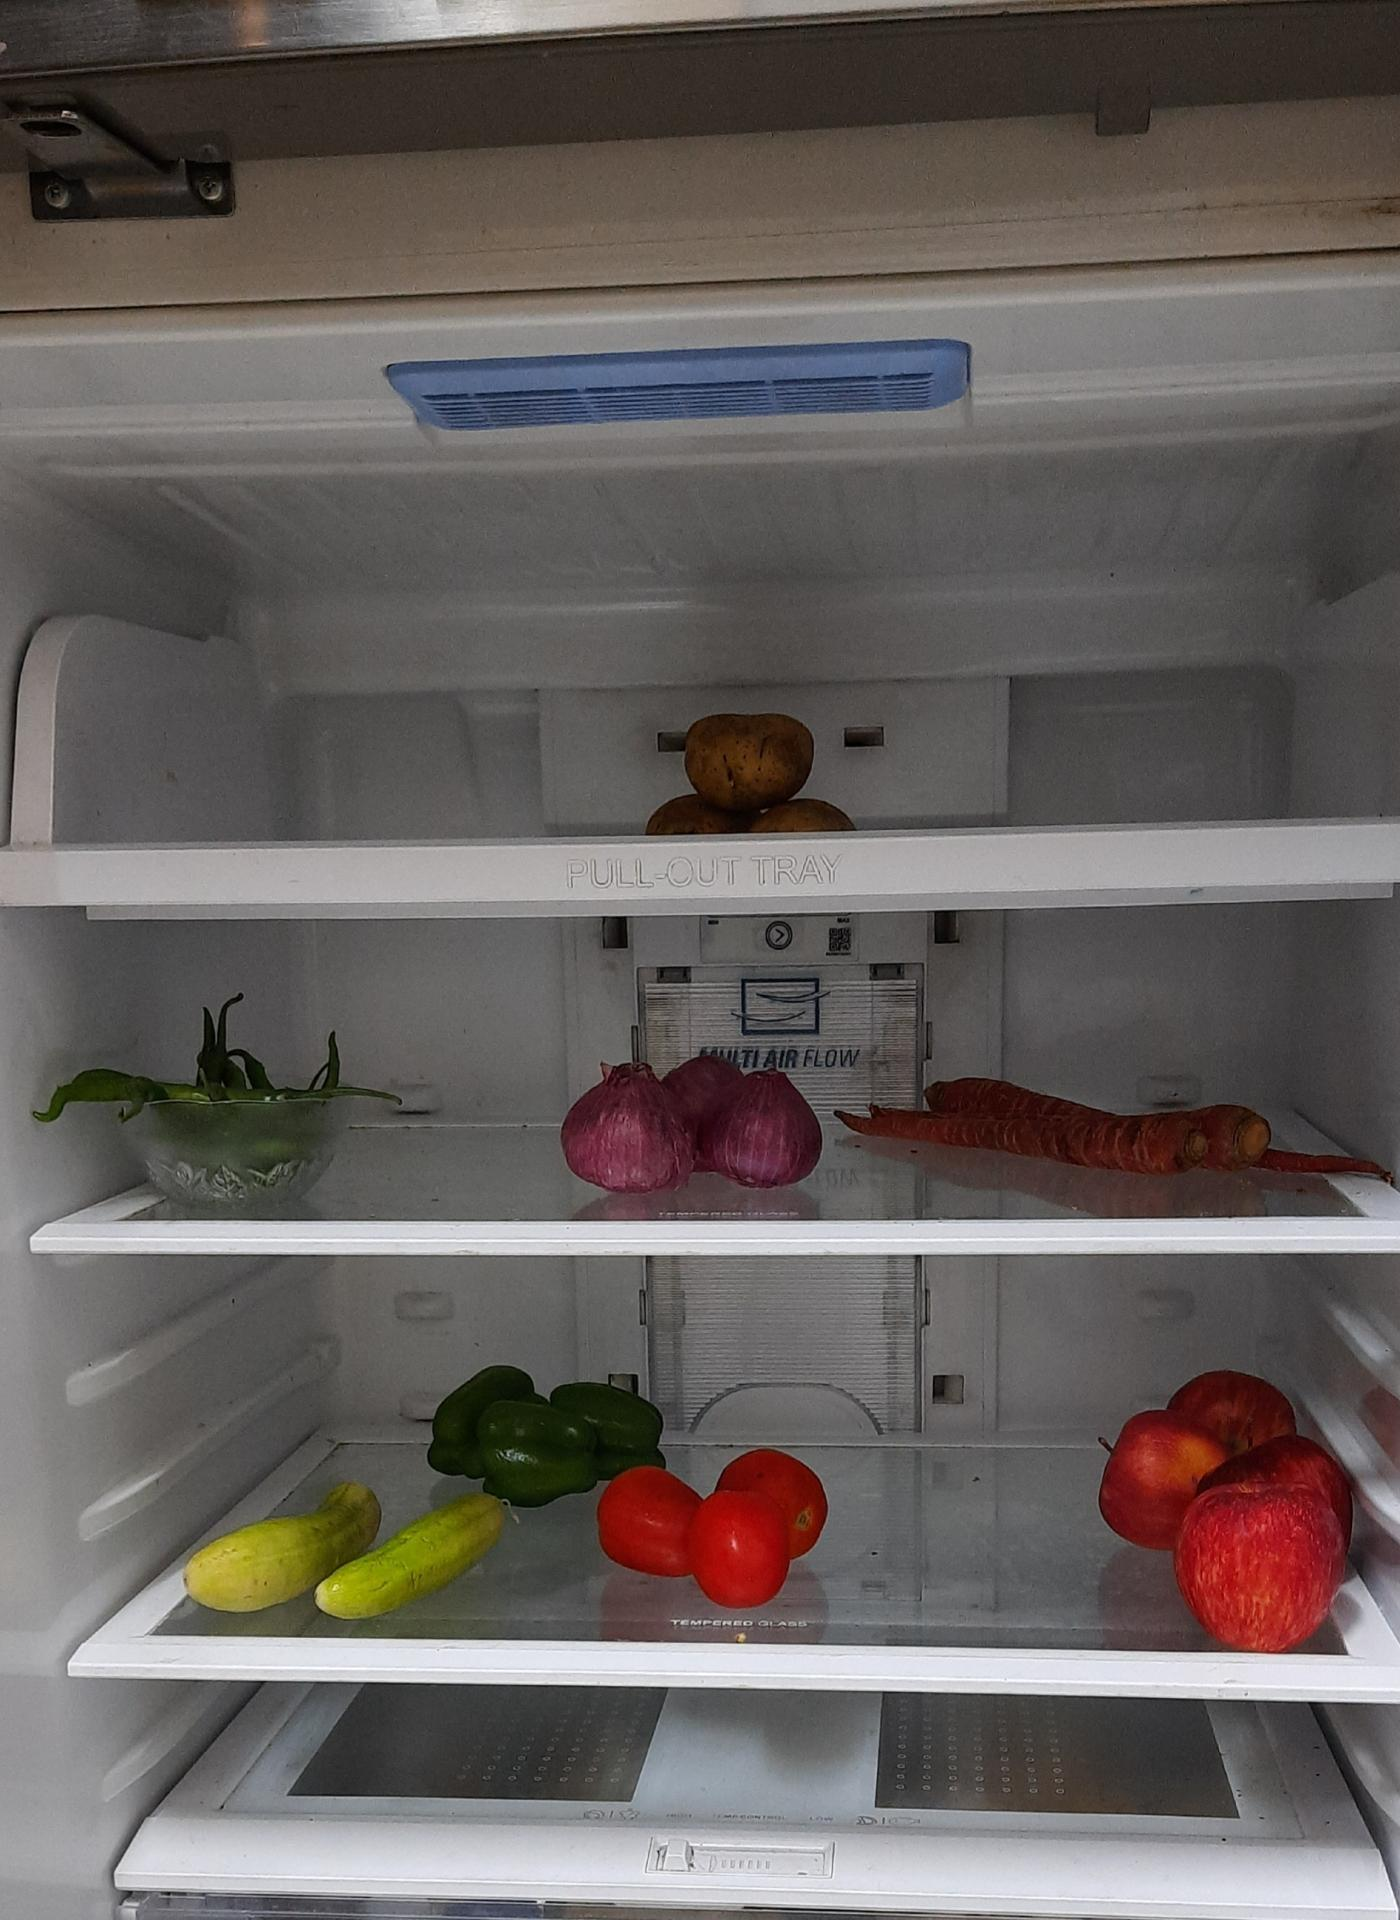apple: (1093, 1362, 1367, 1652)
capsicum: (422, 1374, 665, 1509)
carrots: (848, 1069, 1288, 1172)
chillies: (42, 1006, 388, 1169)
cucumber: (182, 1489, 391, 1617), (309, 1495, 514, 1622)
onion: (565, 1049, 827, 1188)
potato: (646, 713, 853, 841)
tomato: (596, 1446, 830, 1607)
